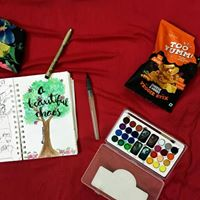plastic: (160, 19, 197, 108)
tooyumm: (162, 36, 195, 64)
wrapper: (133, 28, 197, 91)
